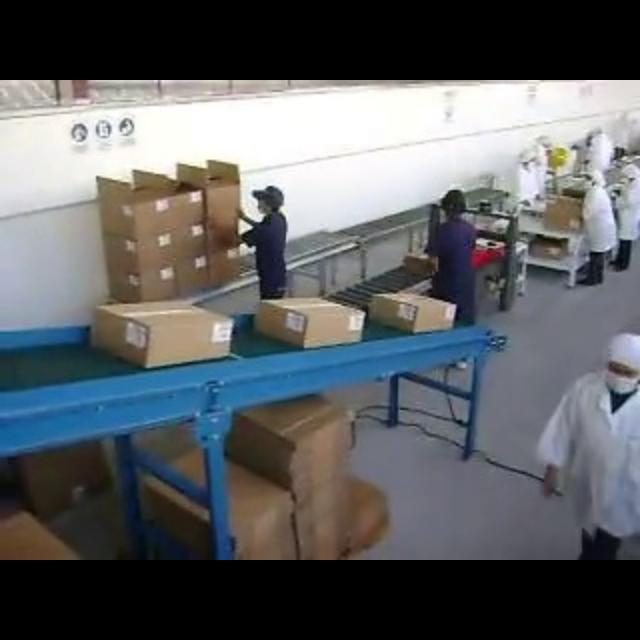Box: (92, 158, 242, 306), (91, 300, 237, 372), (250, 293, 368, 351), (366, 290, 460, 334)
